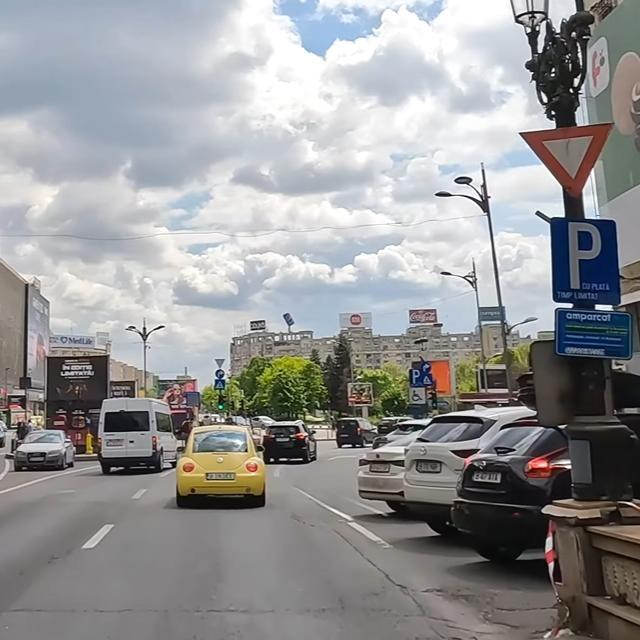prio_give_way: (518, 125, 614, 195)
